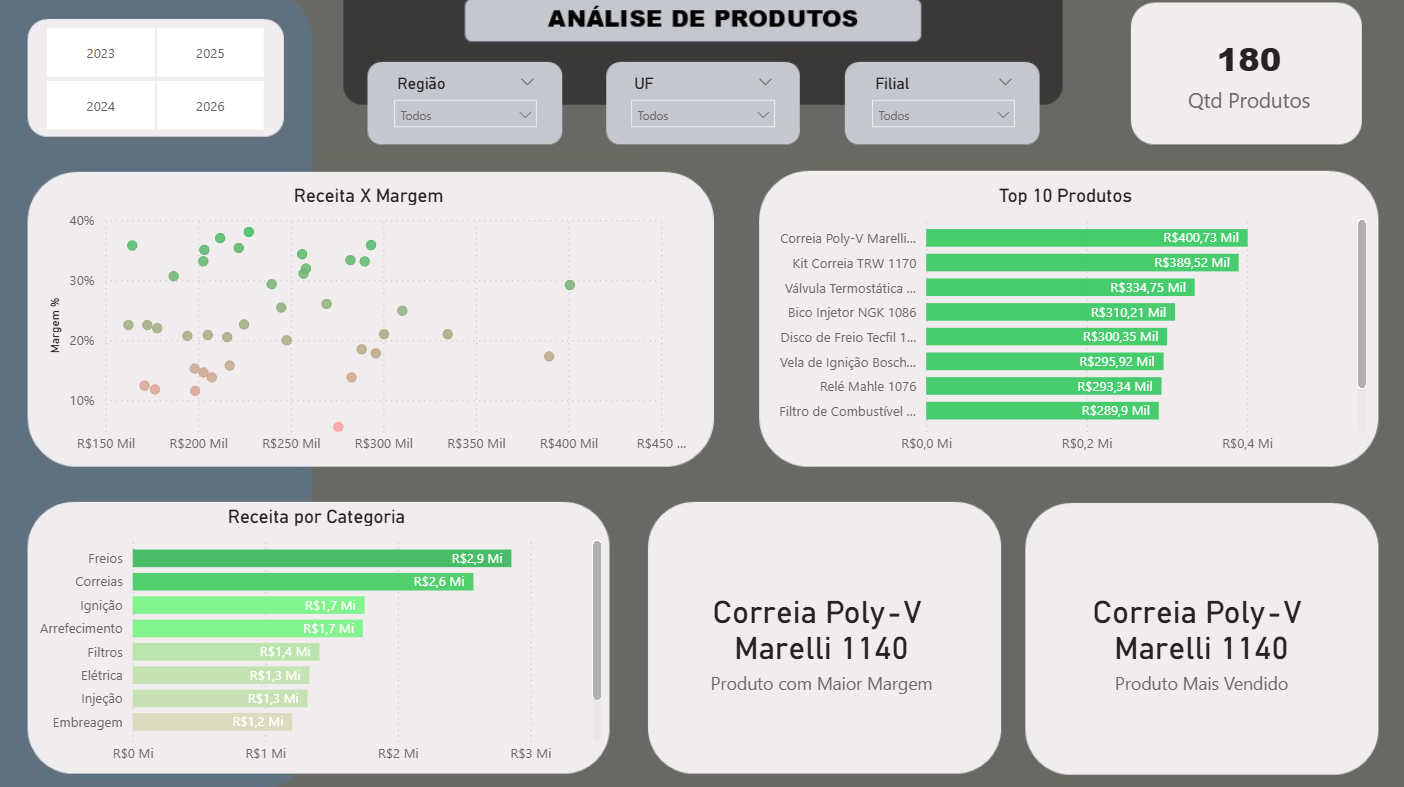

Layout of this report page (visuals, bound fields, positions):
{"tool":"powerbi","page":{"name":"Análise de Produtos","canvas":[1280,720],"ordinal":2},"visuals":[{"type":"card","fields":{"Values":["Produtos.Qtd Produtos"]},"box":[1047.9,23.6,176.4,87.9],"z":1000},{"type":"slicer","fields":{"Values":["Calendario.Ano"]},"box":[22.5,24.3,237.1,95.7],"z":3000},{"type":"slicer","fields":{"Values":["Clientes.Regiao"]},"box":[349,63.8,150.5,60.5],"z":5000},{"type":"slicer","fields":{"Values":["Clientes.UF"]},"box":[564.3,63.3,151.4,61],"z":6000},{"type":"scatterChart","title":"Receita X Margem","fields":{"X":["Vendas.Receita Liquida Total"],"Category":["Produtos.Produto"],"Y":["Vendas.Margem %"]},"box":[41,168,590,254],"z":7000},{"type":"barChart","title":"Top 10 Produtos ","fields":{"Category":["Produtos.Produto"],"Y":["Sum(Vendas.Receita_Liquida)"]},"box":[691,168,557,254],"z":8000},{"type":"barChart","title":"Receita por Categoria","fields":{"Category":["Produtos.Categoria"],"Y":["Sum(Vendas.Receita_Liquida)"]},"box":[24.5,460,528.2,243.6],"z":9000},{"type":"slicer","fields":{"Values":["Filiais.Filial"]},"box":[783.8,63.8,150.5,60.5],"z":10000},{"type":"card","fields":{"Values":["Produtos.Produto Maior Margem"]},"box":[603.6,481.8,288.2,200],"z":11000},{"type":"card","fields":{"Values":["Produtos.Produto Mais Vendido"]},"box":[945.5,481.8,295.5,200],"z":12000}]}

Visuals, with their boxes in screenshot pixels (x1, y1, x2, y2), scaled from the page's 1280x720 canvas onto the 1404x787 screenshot:
card - Produtos.Qtd Produtos: <region>1149, 26, 1343, 122</region>
slicer - Calendario.Ano: <region>25, 27, 285, 131</region>
slicer - Clientes.Regiao: <region>383, 70, 548, 136</region>
slicer - Clientes.UF: <region>619, 69, 785, 136</region>
"Receita X Margem" scatterChart: <region>45, 184, 692, 461</region>
"Top 10 Produtos " barChart: <region>758, 184, 1369, 461</region>
"Receita por Categoria" barChart: <region>27, 503, 606, 769</region>
slicer - Filiais.Filial: <region>860, 70, 1025, 136</region>
card - Produtos.Produto Maior Margem: <region>662, 527, 978, 745</region>
card - Produtos.Produto Mais Vendido: <region>1037, 527, 1361, 745</region>
